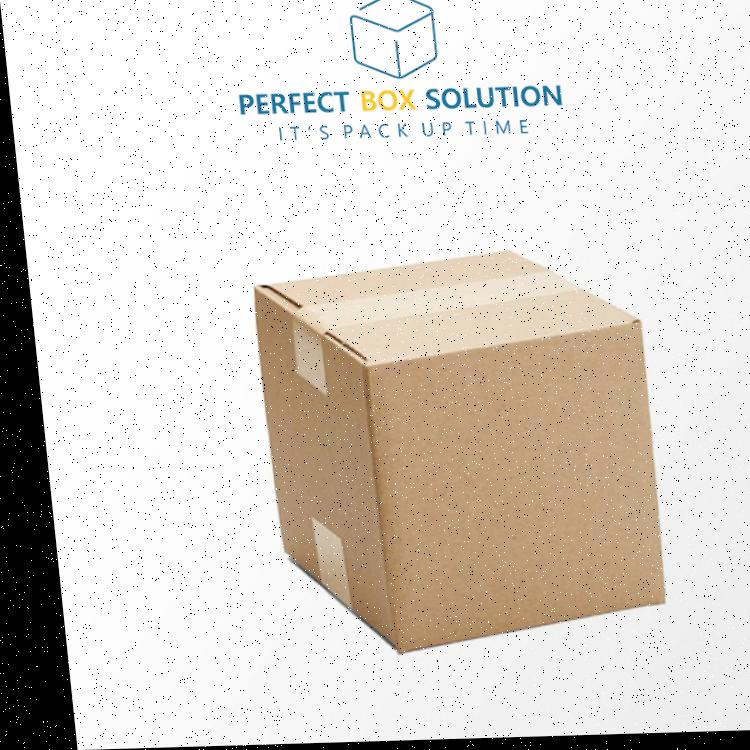cube: (230, 256, 668, 655)
